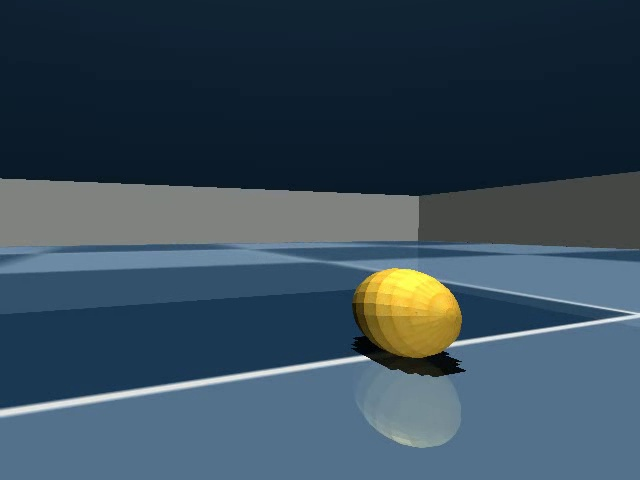lemon: (343, 263, 470, 377)
